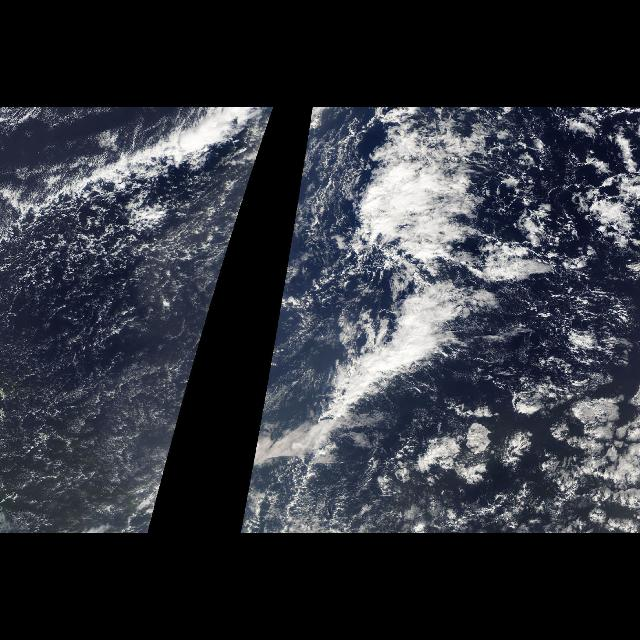Fish: (22, 112, 228, 222)
Flower: (396, 387, 636, 533)
Gravel: (3, 182, 225, 528)
Sugar: (1, 346, 198, 532)
